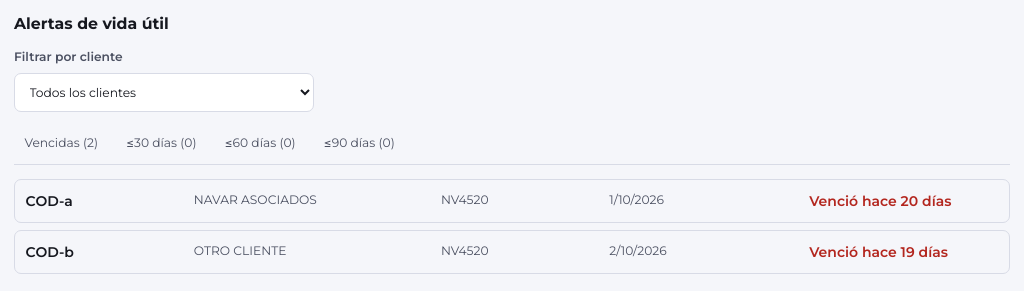
AlertasPage › filtra por cliente
Expected: the text "COD-a" is shown, [26,192,73,210]
Expected: the text "COD-b" is shown, [26,243,74,261]
Select "OTRO CLIENTE" in the dropdown labelled "Filtrar por cliente": (164, 92) [14,73,314,112]
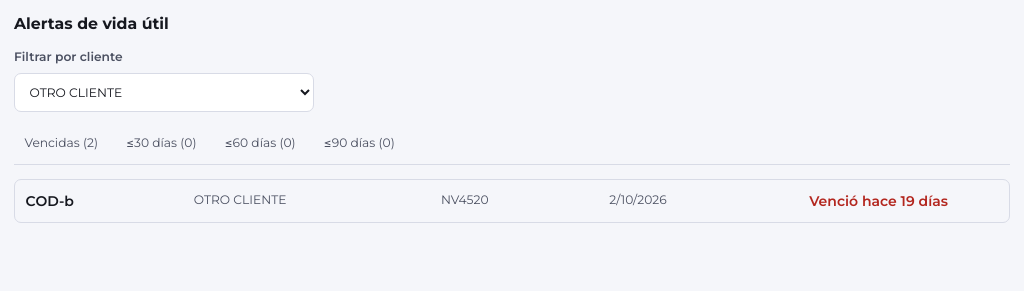
Expected: the text "COD-b" is shown, [26,192,74,210]
Expected: the button "COD-a" is gone
